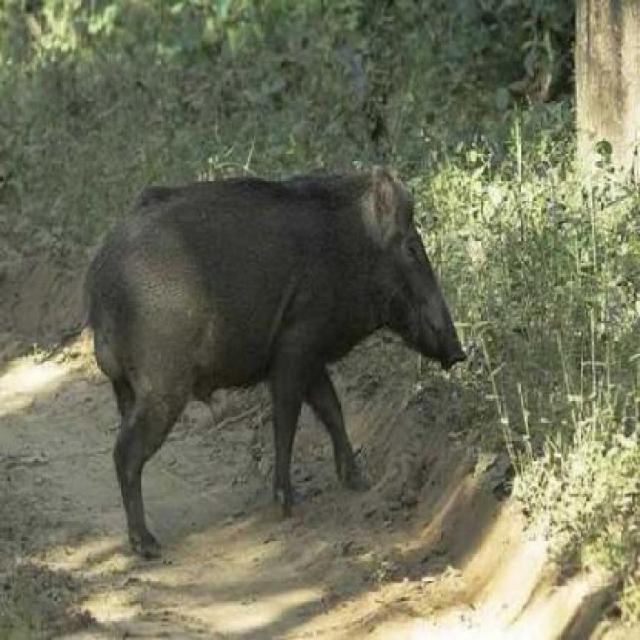pig: (76, 117, 568, 525)
